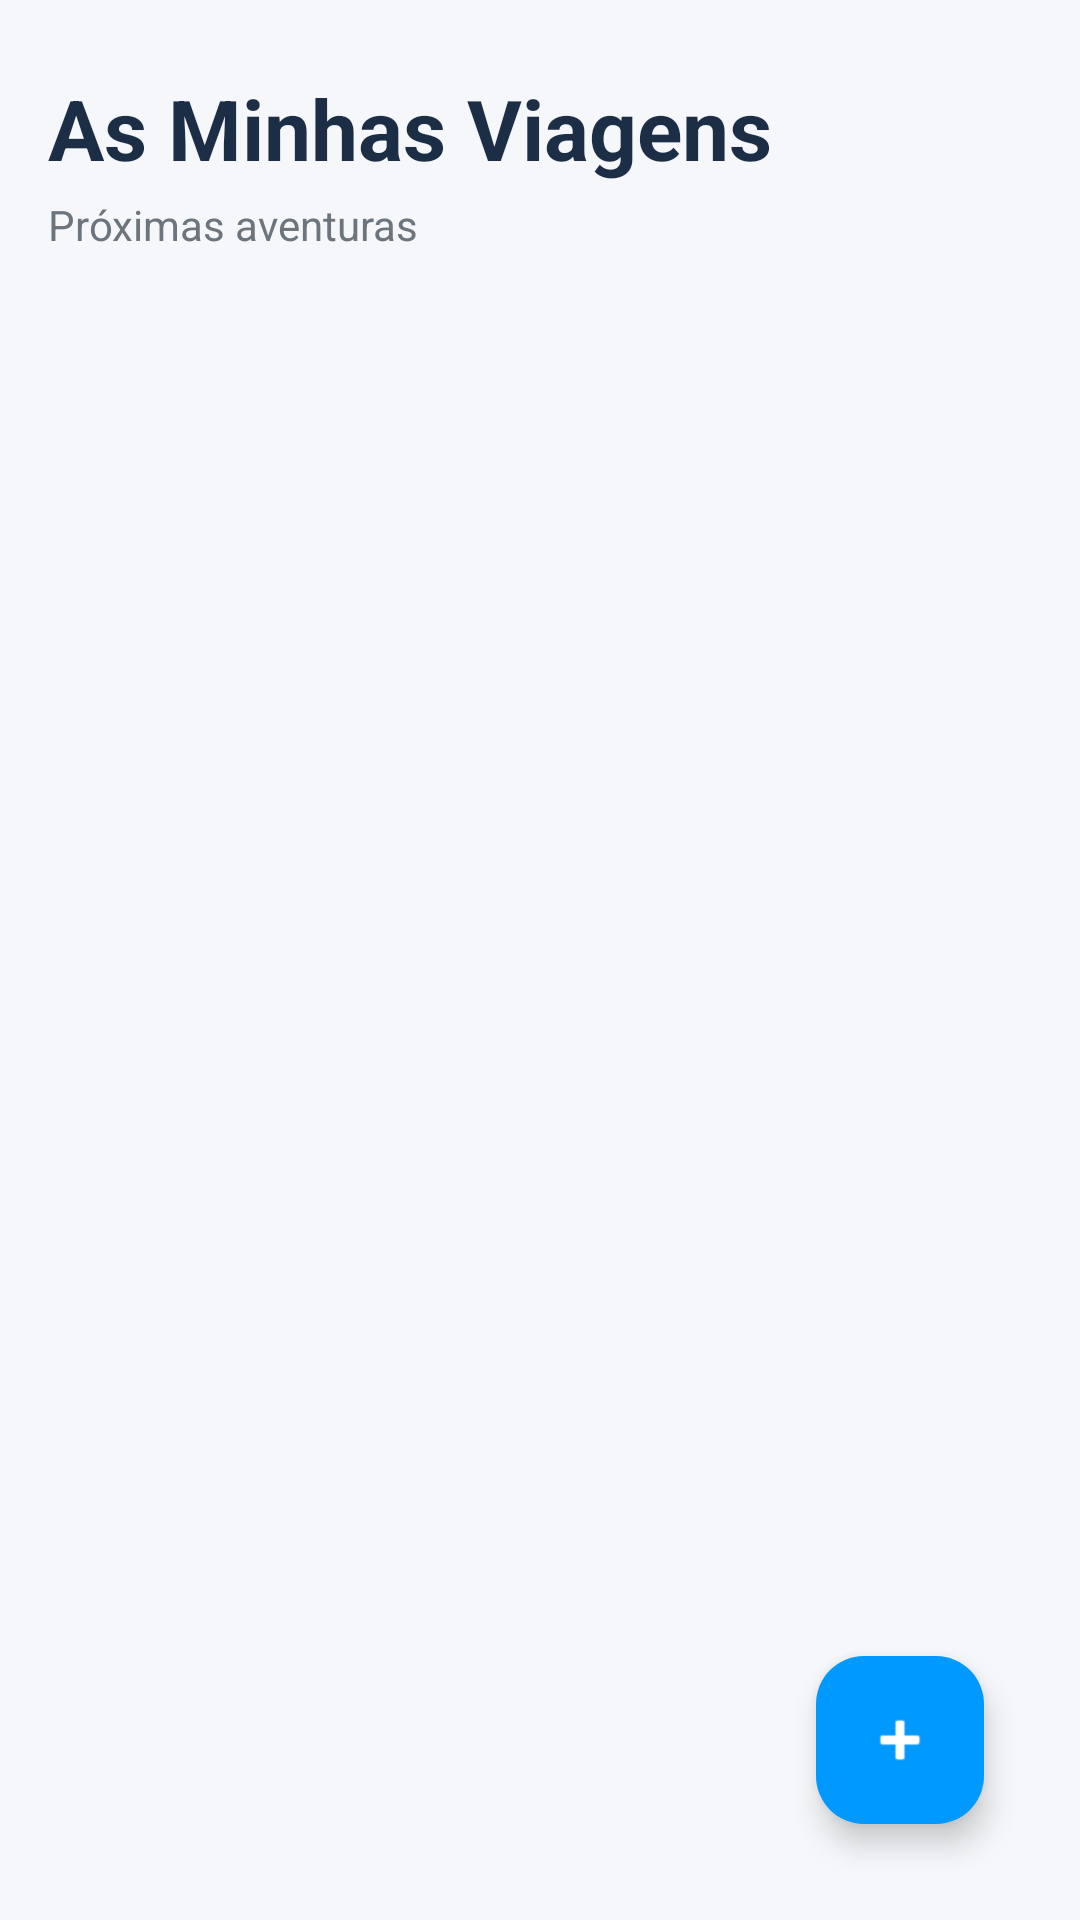

Screen size 1080px×1920px. Icon name, then its box in pixels as box(x1, y1, x2, y2):
Criar Viagem: box(816, 1656, 984, 1824)
